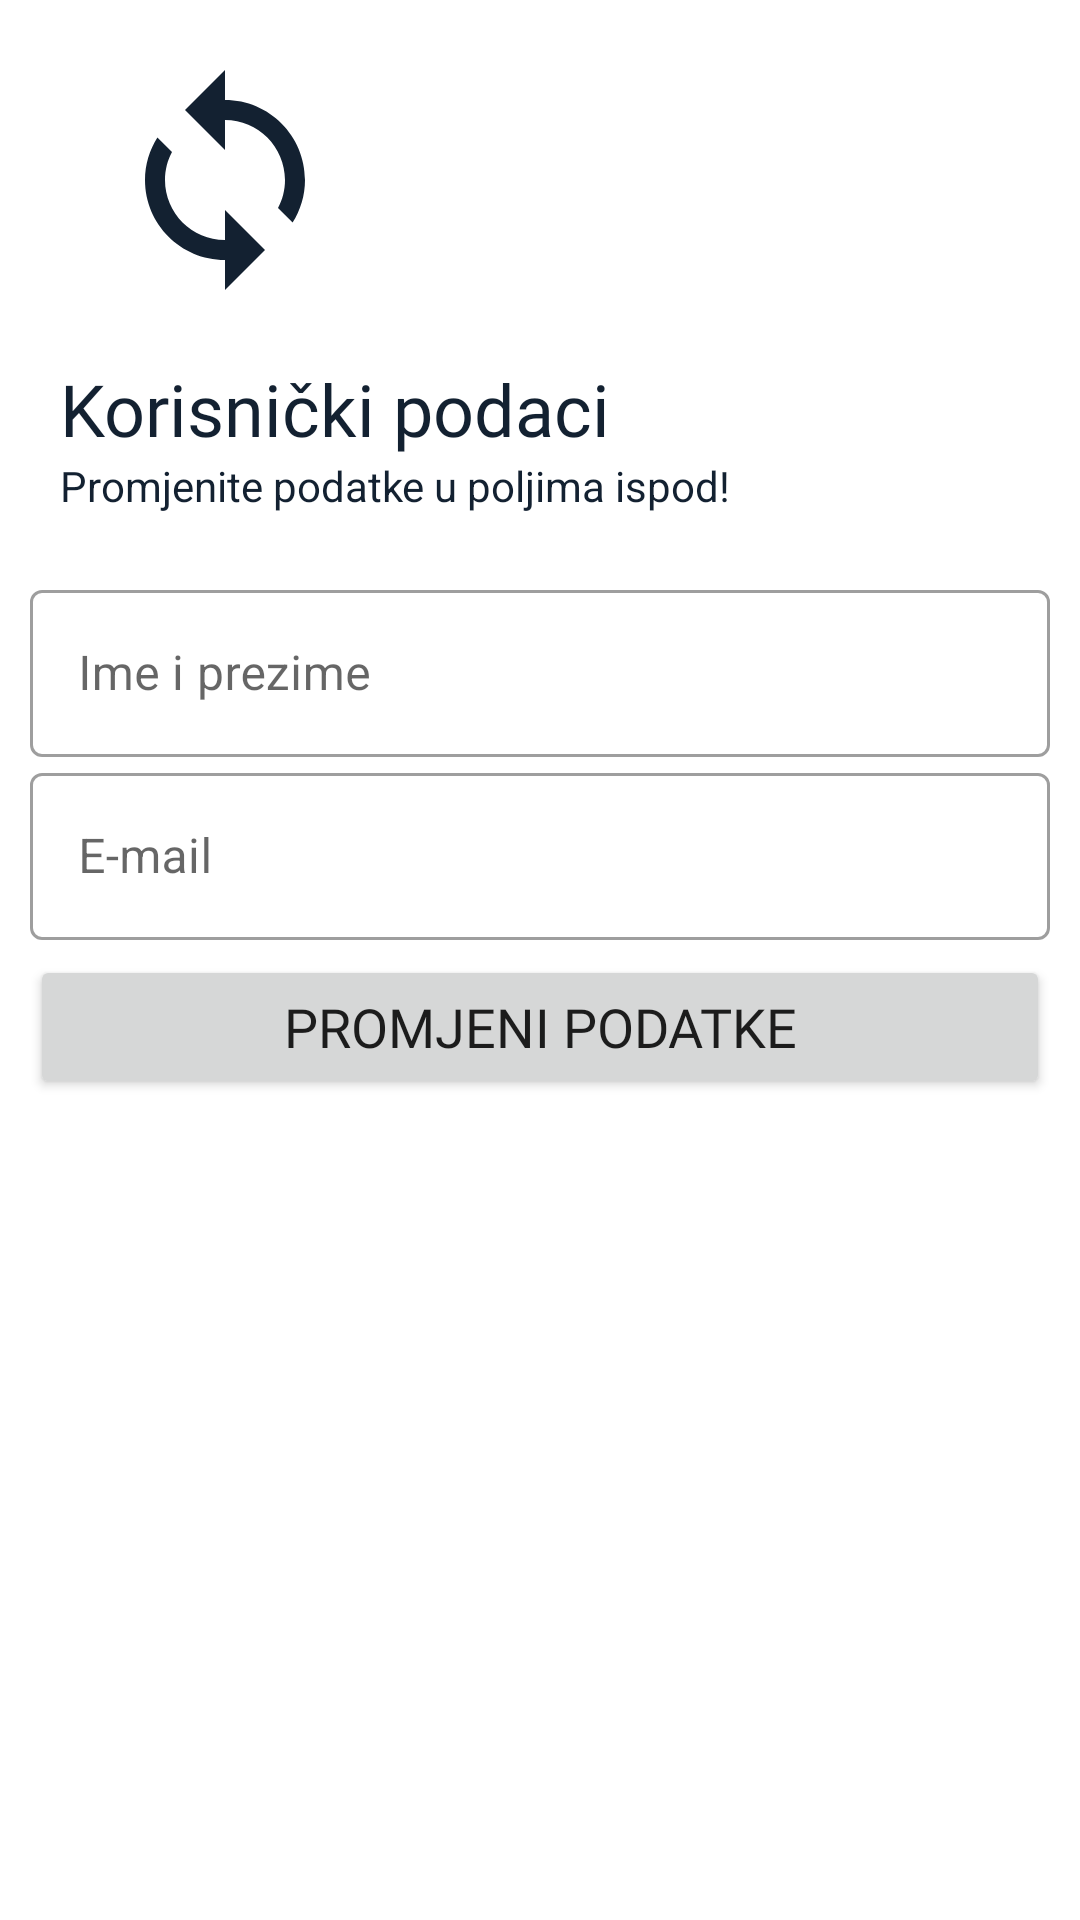

Icon click points for this 1080px x 1920px phone screenshot, format (x,y):
promjena podataka: (225,180)
